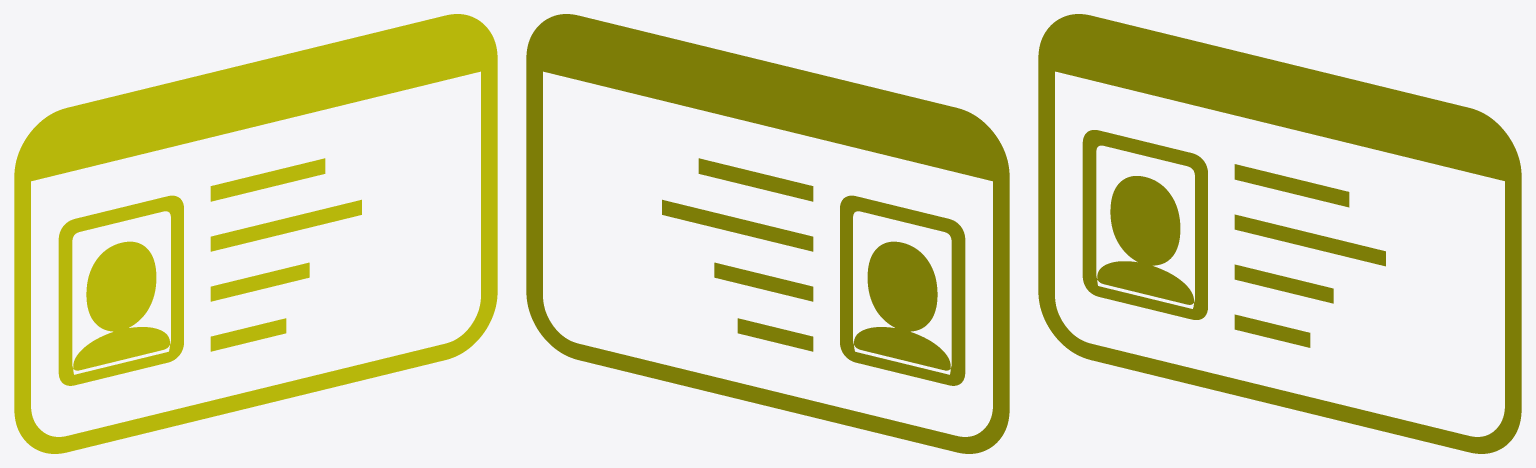
The picture shows the model from 3 angles, left to right: view 1: azimuth 30°, elevation 25°; view 2: azimuth 150°, elevation 25°; view 3: azimuth 330°, elevation 25°; orthographic projection.
Parts seen in each view (by area): view 1: Text.699_699; view 2: Text.699_699; view 3: Text.699_699.
Boxes of the visible parts, left/top/right/bottom form: Text.699_699: left=14, top=14, right=497, bottom=453; Text.699_699: left=526, top=14, right=1009, bottom=453; Text.699_699: left=1038, top=14, right=1521, bottom=453.
Size of the model in its own units: 1.13 by 0.772 by 2.73e-06.
